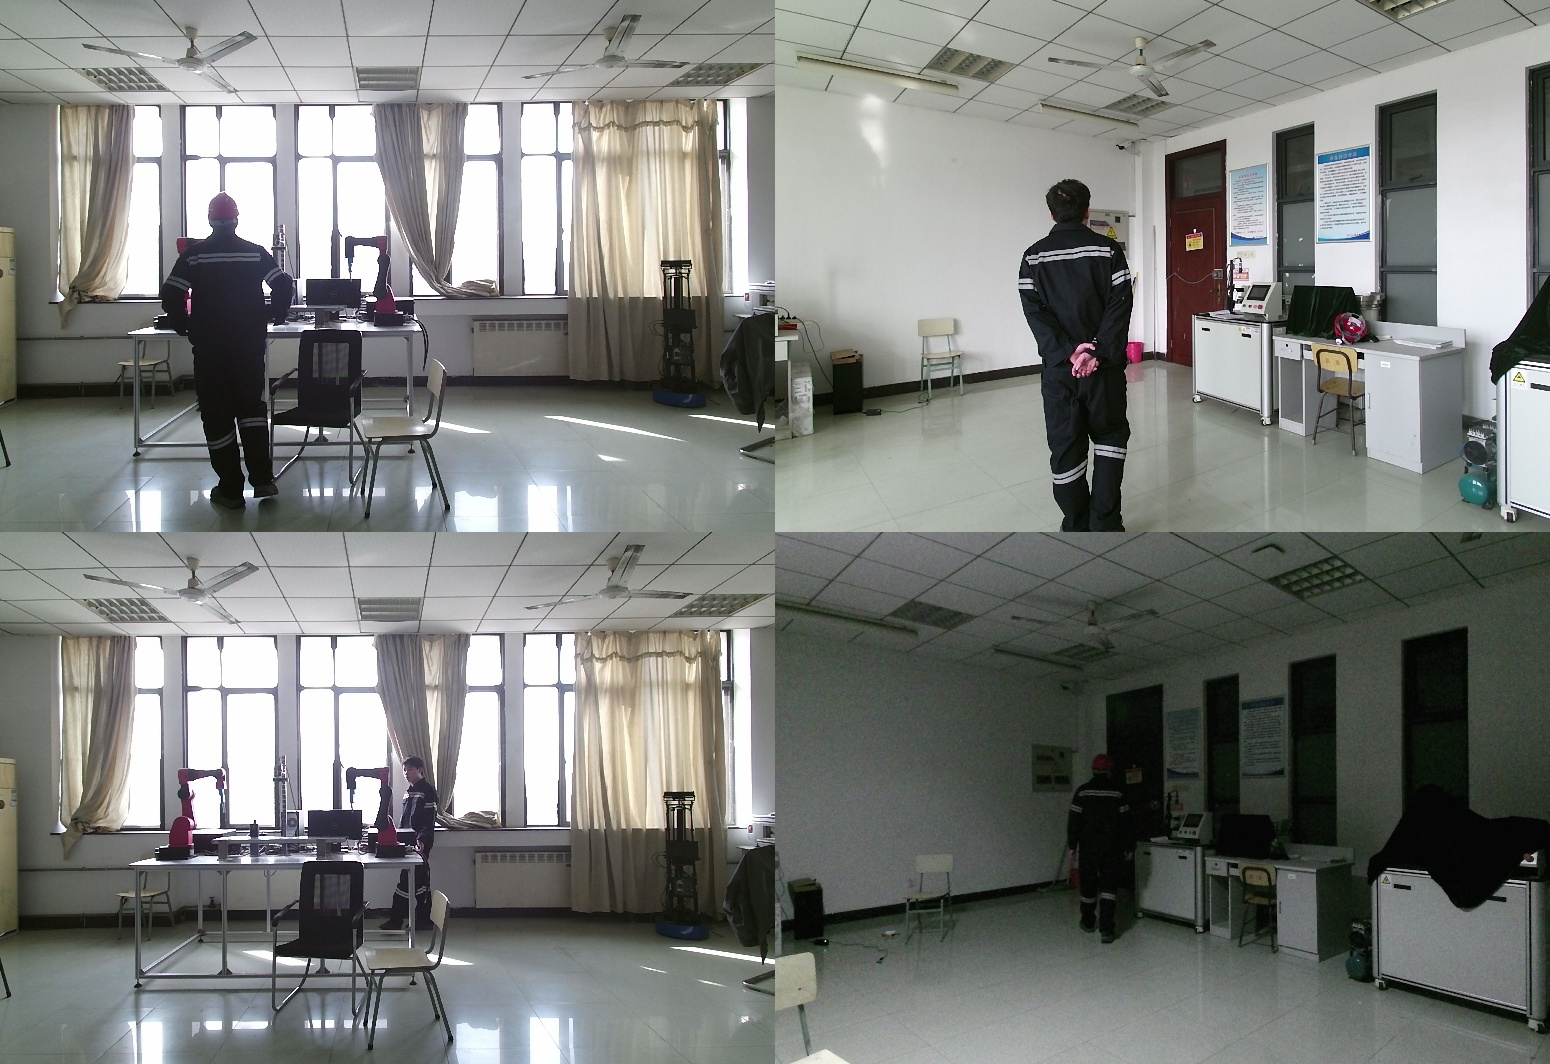person: (1015, 178, 1147, 532), (163, 194, 298, 506), (1065, 754, 1141, 961), (380, 757, 445, 939)
